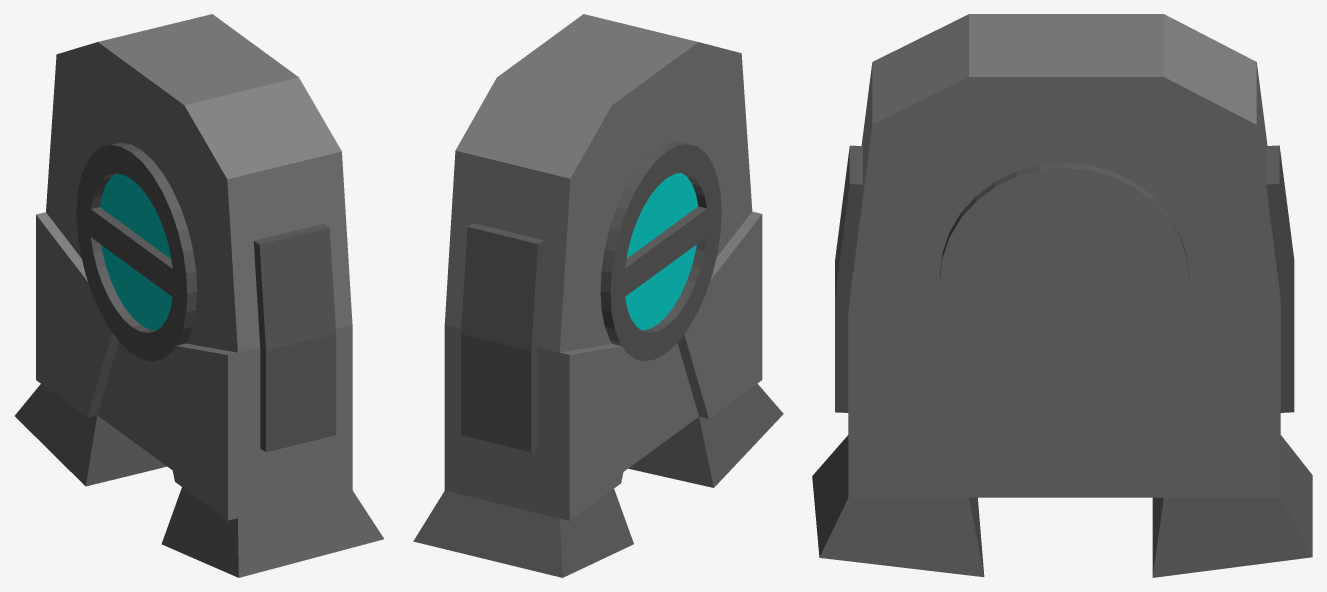
File: JetPackAlay.fbx
3 views of the same model, side by side, from view 1: azimuth 30°, elevation 25°; view 2: azimuth 150°, elevation 25°; view 3: azimuth 270°, elevation 25° (orthographic). The views are drawn at different scales.
Parts seen in each view (by area): view 1: Cube; view 2: Cube; view 3: Cube.
Part boxes in pixels (<box>): Cube: <box>15,14,383,577</box>; Cube: <box>413,14,783,577</box>; Cube: <box>812,14,1312,577</box>.
Bounding box in the file's own units: 159 × 436 × 402.
